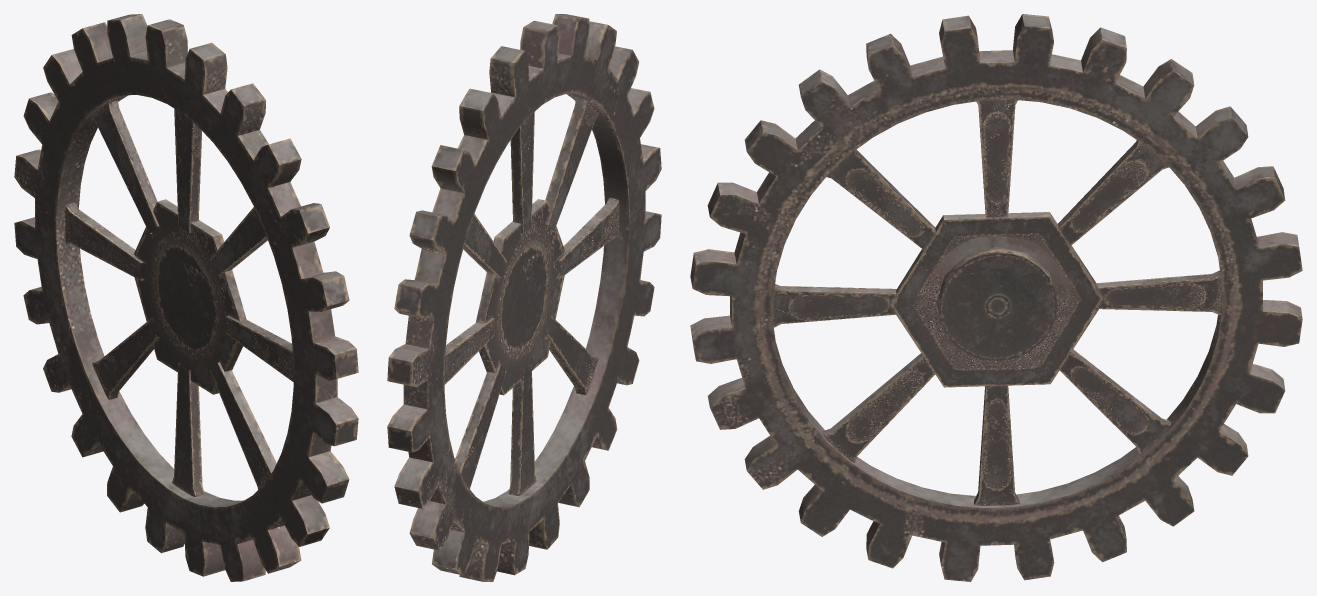
The model's file is gear_low Instance.fbx.
The picture shows the model from 3 angles, left to right: view 1: azimuth 30°, elevation 25°; view 2: azimuth 150°, elevation 25°; view 3: azimuth 270°, elevation 25°; orthographic projection. The views are drawn at different scales.
Visible parts, largest first — view 1: SM_gearmid001__5_; view 2: SM_gearmid001__5_; view 3: SM_gearmid001__5_.
Boxes of the visible parts, box(x1,y1,x2,y2) form: SM_gearmid001__5_: box(14, 14, 358, 581); SM_gearmid001__5_: box(387, 14, 661, 581); SM_gearmid001__5_: box(690, 14, 1302, 581).
Size of the model in its own units: 21.89 by 188 by 188.
